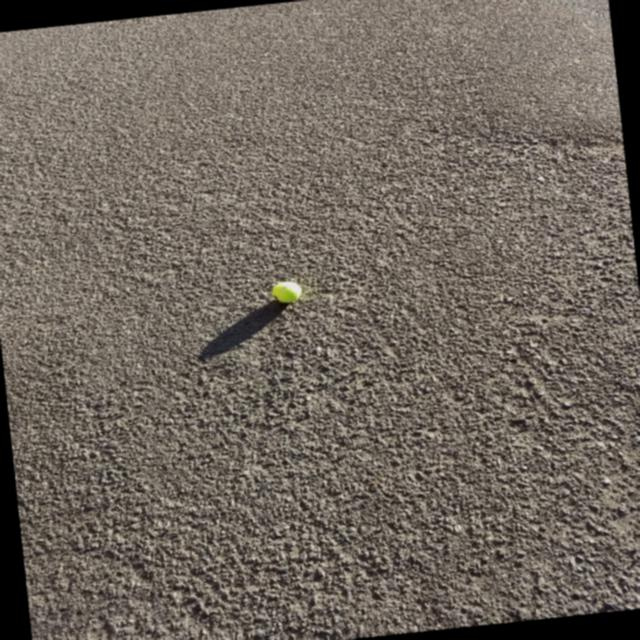tennis-ball: (272, 279, 304, 303)
